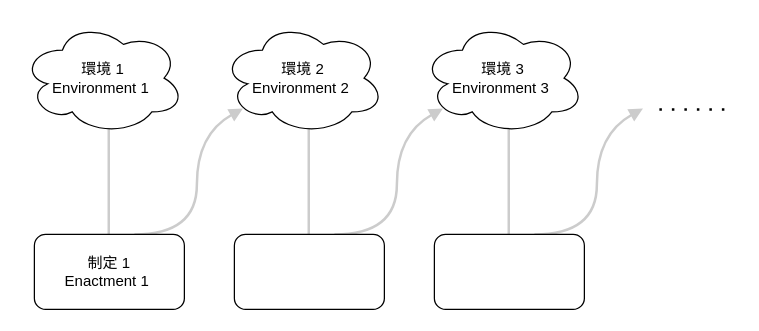
This 759x331 diagram has some shape labels left out. The shapes that lost their labels are listed below. From the top down, each one's centre as x and y in pixels, then its label:
pixel 308 271: 制定 2 Enactment 2
pixel 508 271: 制定 3 Enactment 3
